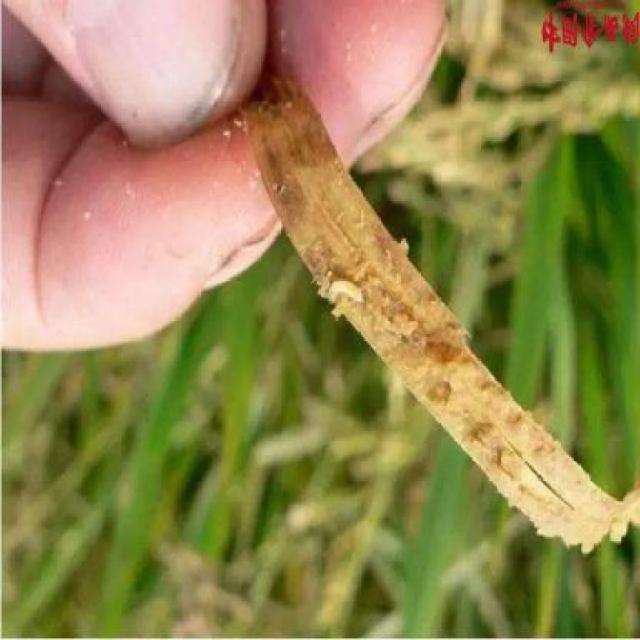whorl-maggot: (327, 267, 368, 315)
